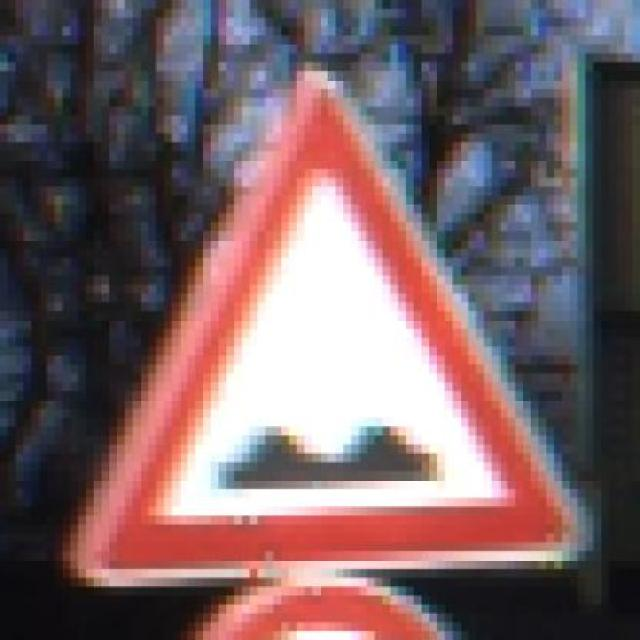Uneven Road: (70, 44, 608, 587)
